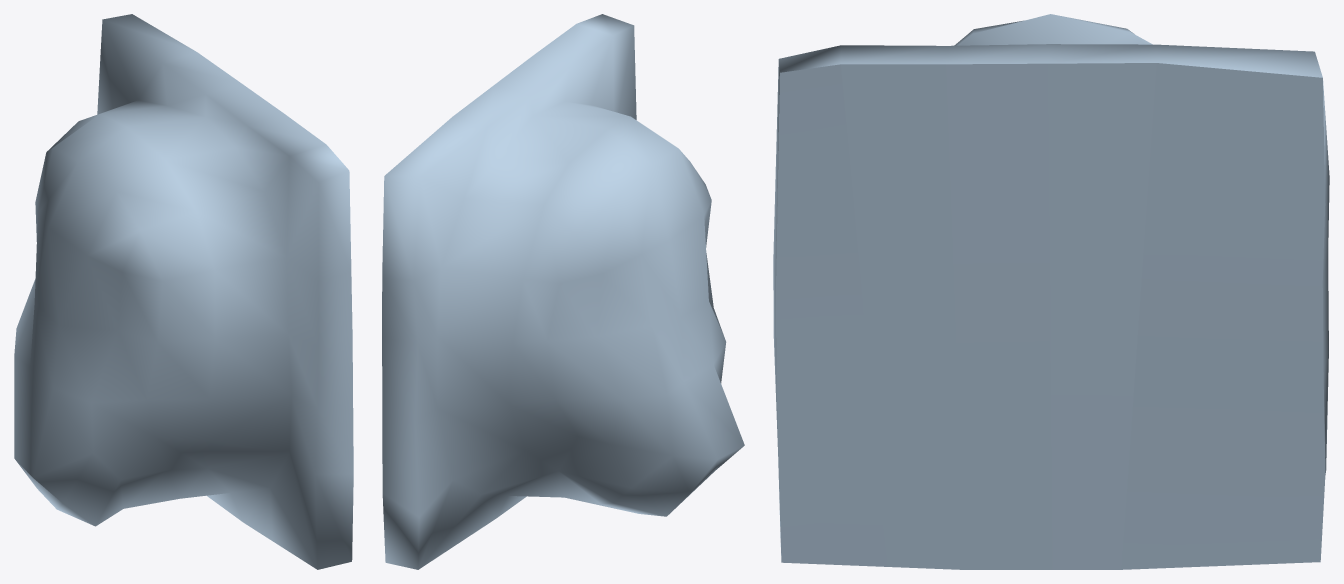
File: Statue_07_Lod0.fbx
The picture shows the model from 3 angles, left to right: view 1: azimuth 30°, elevation 25°; view 2: azimuth 150°, elevation 25°; view 3: azimuth 270°, elevation 25°; orthographic projection. The views are drawn at different scales.
Visible parts, largest first — view 1: Statue_07_Lod0; view 2: Statue_07_Lod0; view 3: Statue_07_Lod0.
Boxes of the visible parts, x1,y1,x2,y2 form: Statue_07_Lod0: (14, 14, 353, 569); Statue_07_Lod0: (382, 14, 744, 569); Statue_07_Lod0: (773, 14, 1329, 569).
Size of the model in its own units: 39.15 by 65.15 by 64.94.
